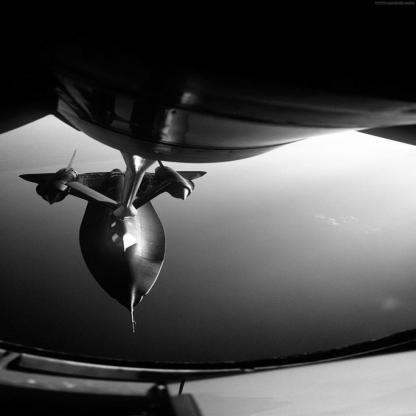SR71: (20, 150, 209, 334)
